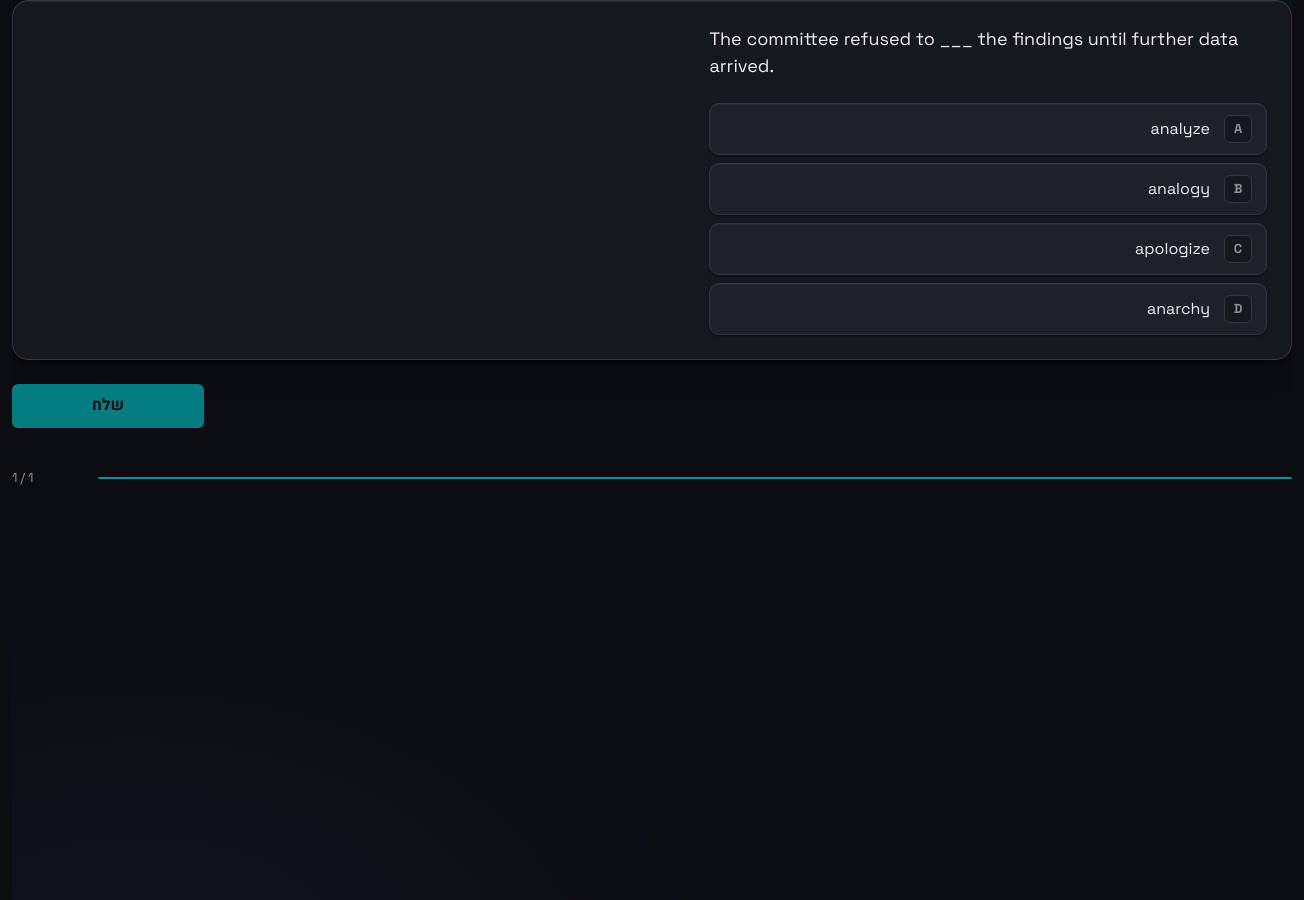
Test: SessionRunner › reveals explanations after answering
This screenshot has width=1304, height=900.
Expected: the text "The committee refused to ___ the findings until further data arrived." is shown, [710,25,1267,79]
Click the button "analyze": point(1180, 129) [710,103,1267,155]
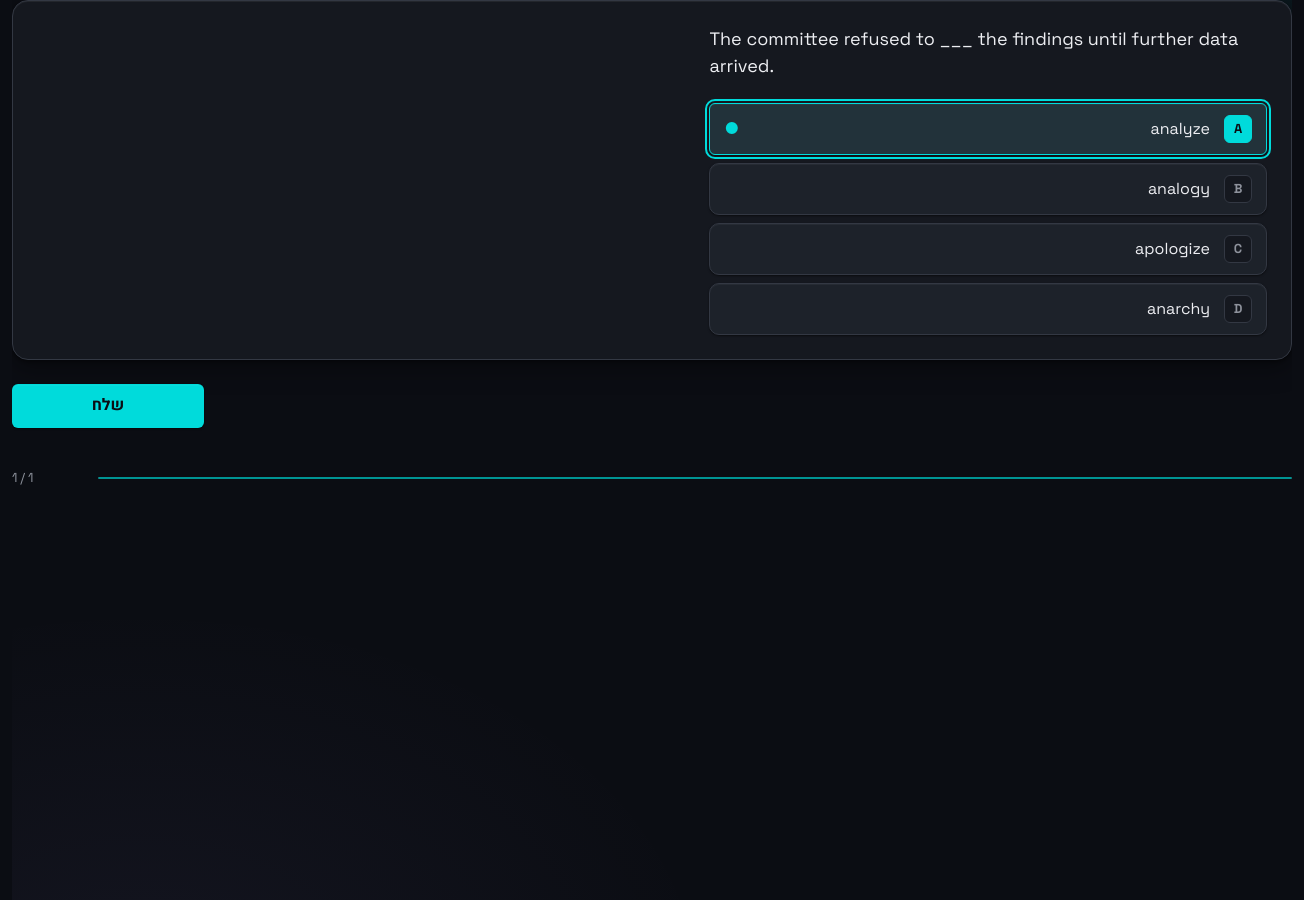
Click the button "שלח": point(108, 406) [12,384,204,428]
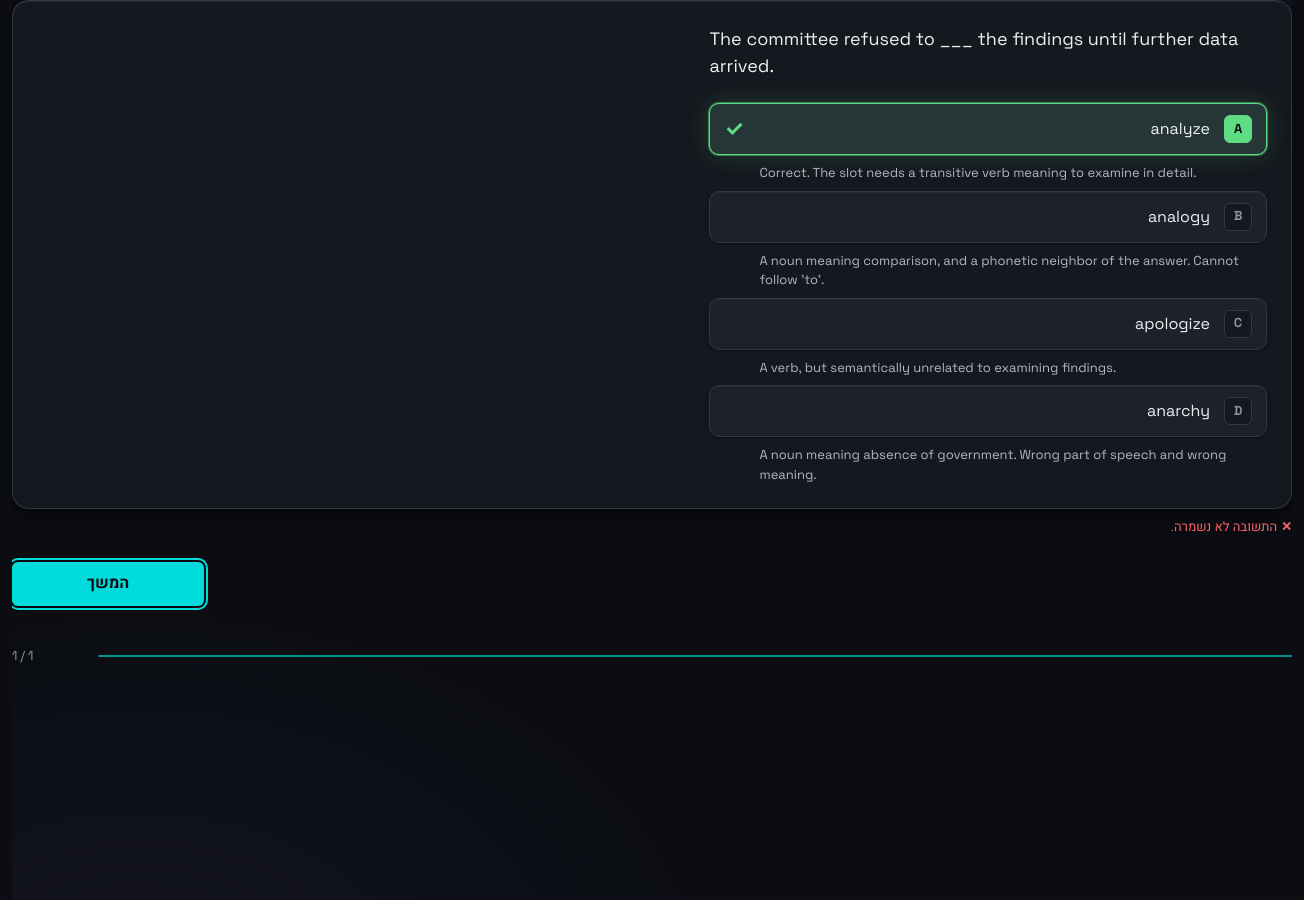
Result: the text "Correct. The slot needs a transitive verb meaning to examine in detail." is shown at [760,164,1196,181]
